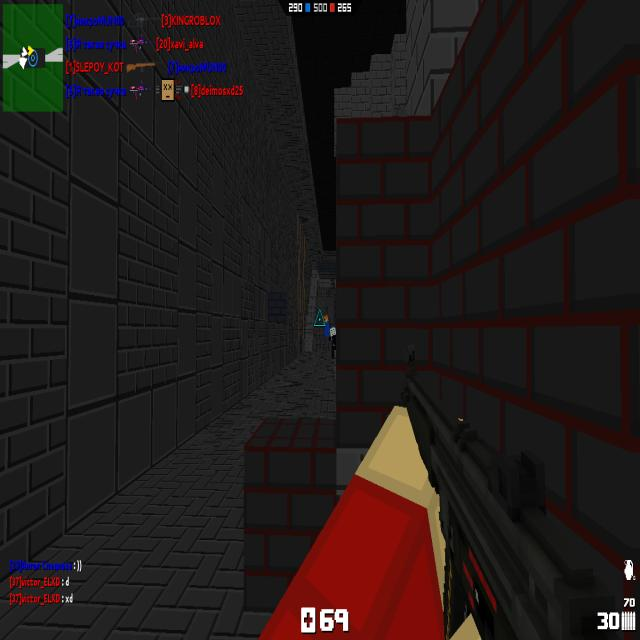enemy: (328, 327, 338, 360), (322, 315, 330, 339), (330, 278, 336, 290)
